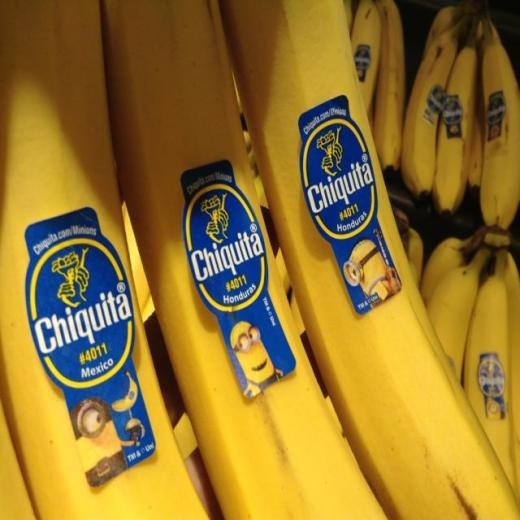Banana: (217, 0, 517, 519)
